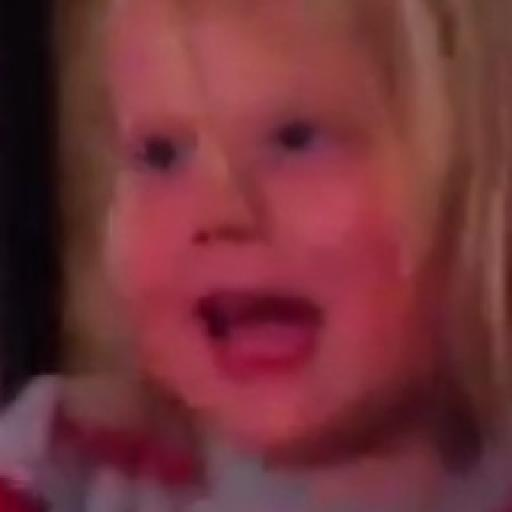Autism: (68, 20, 512, 486)
